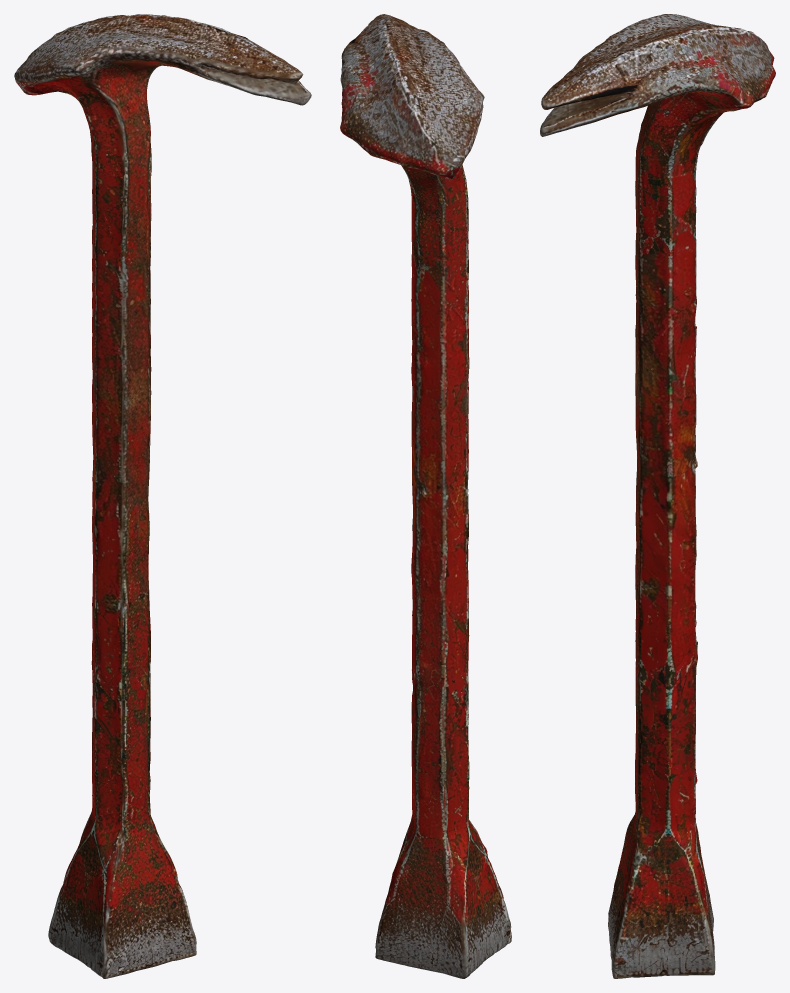
File: melee_crowbar.glb
3 renders of one model, left to right at view 1: azimuth 30°, elevation 25°; view 2: azimuth 150°, elevation 25°; view 3: azimuth 270°, elevation 25°, orthographic. The views are drawn at different scales.
Visible parts, largest first — view 1: melee_crowbar; view 2: melee_crowbar; view 3: melee_crowbar.
Part boxes in pixels (x1,y1,x2,y2): melee_crowbar: (14,14,311,978); melee_crowbar: (340,14,511,978); melee_crowbar: (540,14,775,978).
Bounding box in the file's own units: 0.1319 × 0.6 × 0.1362.
Materials: 1 (1 with a texture image).
